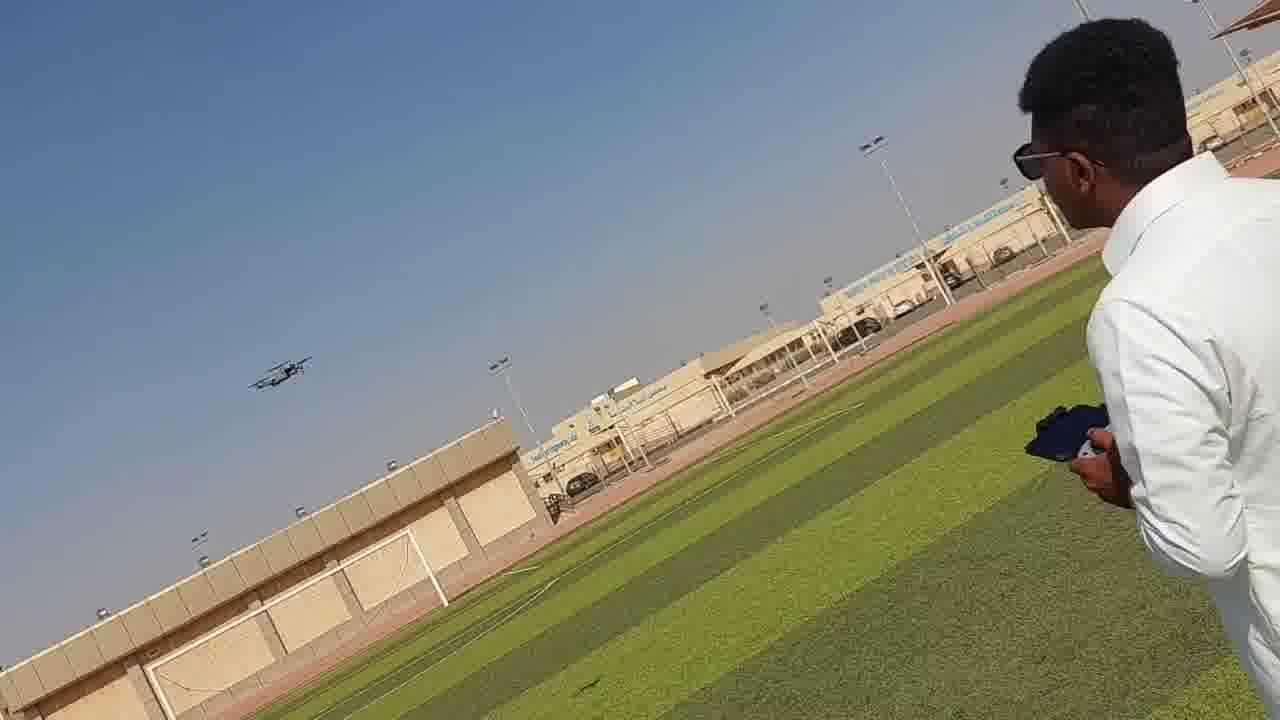drone: (245, 345, 319, 394)
